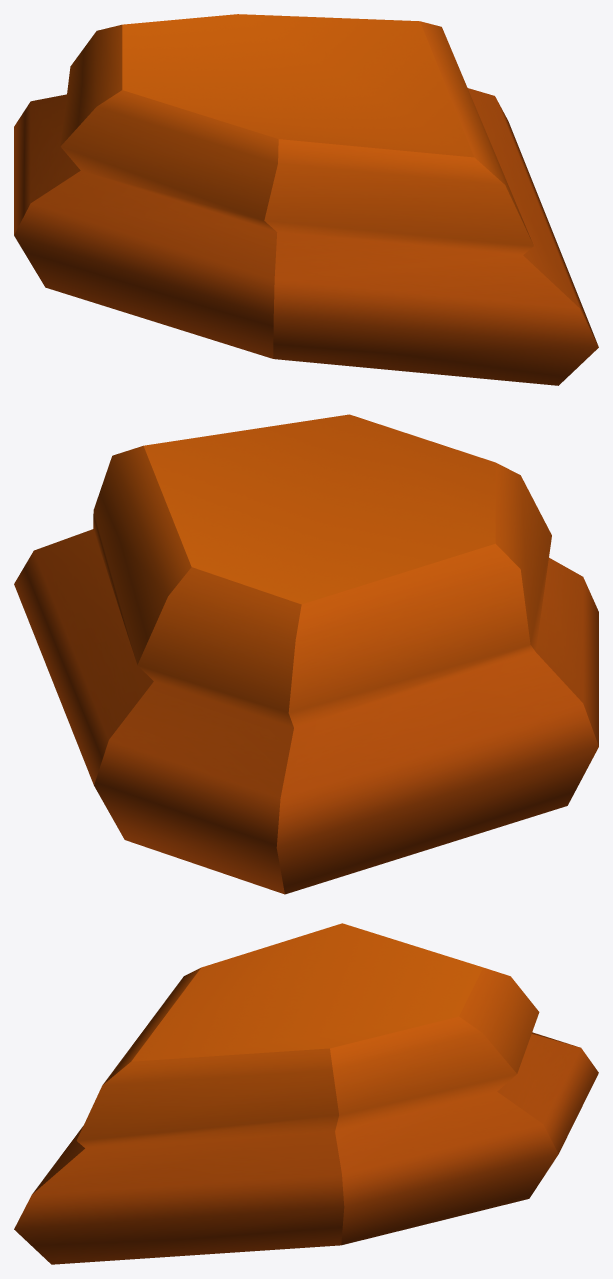
File: Desert_FlatRock04.fbx
3 renders of one model, top to bottom at view 1: azimuth 30°, elevation 25°; view 2: azimuth 150°, elevation 25°; view 3: azimuth 270°, elevation 25°, orthographic. The views are drawn at different scales.
Parts seen in each view (by area): view 1: Desert_FlatRock02:pCylinder1; view 2: Desert_FlatRock02:pCylinder1; view 3: Desert_FlatRock02:pCylinder1.
Boxes of the visible parts, <box> form: Desert_FlatRock02:pCylinder1: <box>14,14,598,385</box>; Desert_FlatRock02:pCylinder1: <box>14,414,598,894</box>; Desert_FlatRock02:pCylinder1: <box>14,923,598,1264</box>.
Size of the model in its own units: 4.54 by 2.25 by 5.29.
1 material, 1 textured.
